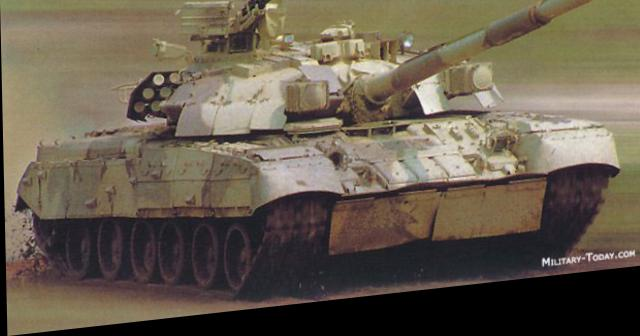tank: (23, 0, 615, 306)
